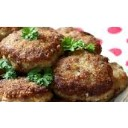cutlet: (54, 54, 113, 98), (1, 31, 64, 67), (1, 77, 54, 103)
